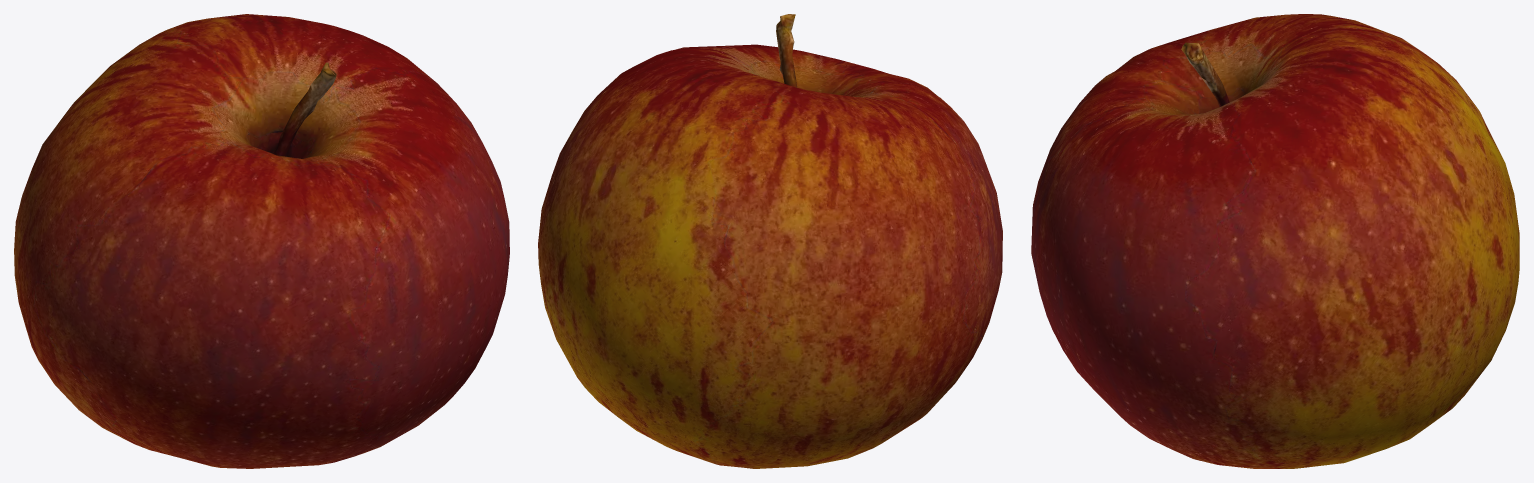
File: food_apple_01.glb
3 renders of one model, left to right at view 1: azimuth 30°, elevation 25°; view 2: azimuth 150°, elevation 25°; view 3: azimuth 270°, elevation 25°, orthographic. The views are drawn at different scales.
Visible parts, largest first — view 1: food_apple_01; view 2: food_apple_01; view 3: food_apple_01.
Part boxes in pixels (box(x1,y1,x2,y2)): food_apple_01: box(14, 14, 509, 468); food_apple_01: box(538, 14, 1002, 468); food_apple_01: box(1031, 14, 1519, 468).
Size of the model in its own units: 0.0976 by 0.0854 by 0.0958.
1 material, 1 textured.
